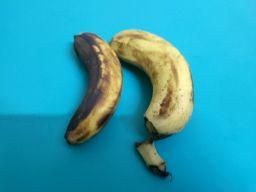banana: (108, 28, 197, 180), (63, 30, 123, 148)
